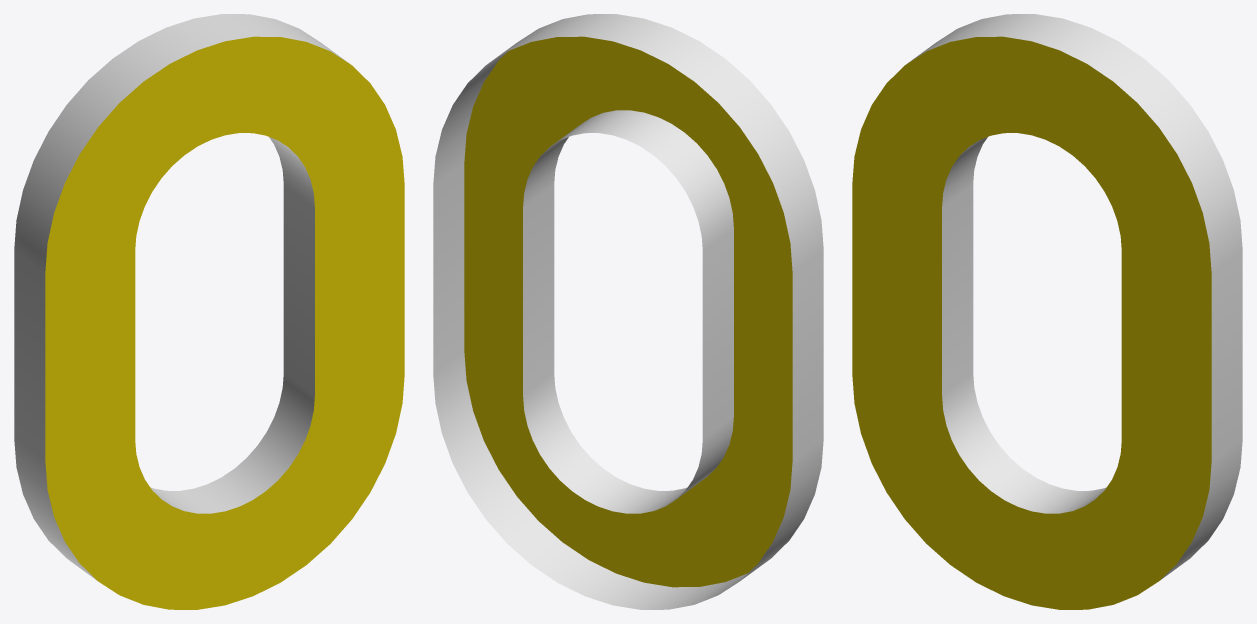
Rendered from NewRoad.fbx.
3 views of the same model, side by side, from view 1: azimuth 30°, elevation 25°; view 2: azimuth 150°, elevation 25°; view 3: azimuth 330°, elevation 25° (orthographic).
Parts seen in each view (by area): view 1: Putanja1.003, Putanja1.005, Putanja1.004; view 2: Putanja1.003, Putanja1.005, Putanja1.004; view 3: Putanja1.003, Putanja1.005, Putanja1.004.
Boxes of the visible parts, left/top/right/bottom form: Putanja1.003: left=45, top=36, right=404, bottom=609; Putanja1.005: left=14, top=14, right=349, bottom=580; Putanja1.004: left=150, top=137, right=314, bottom=513; Putanja1.003: left=464, top=36, right=792, bottom=587; Putanja1.005: left=433, top=14, right=823, bottom=609; Putanja1.004: left=523, top=110, right=733, bottom=513; Putanja1.003: left=852, top=36, right=1211, bottom=609; Putanja1.005: left=907, top=14, right=1242, bottom=580; Putanja1.004: left=942, top=137, right=1106, bottom=513.
Bounding box in the file's own units: 6001 × 8999 × 900.
